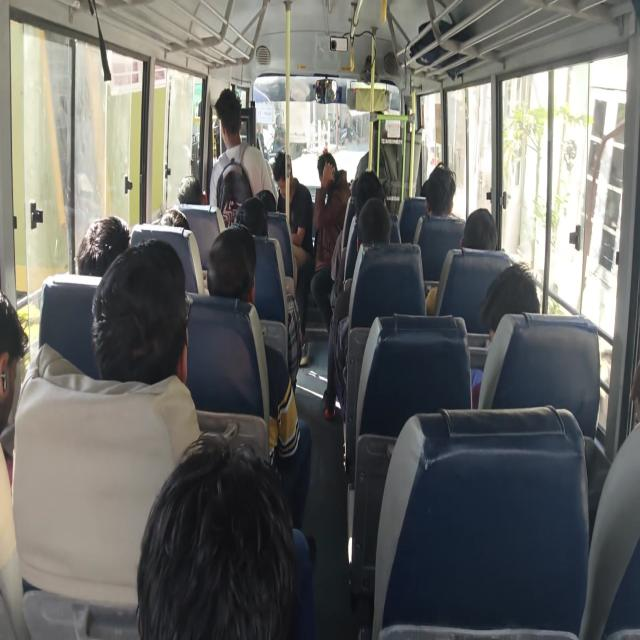person: (103, 465, 286, 640), (117, 241, 191, 371), (0, 297, 47, 443), (74, 196, 140, 280), (428, 170, 482, 250), (482, 258, 537, 334), (213, 232, 255, 298), (216, 84, 252, 144), (469, 197, 499, 264), (362, 212, 408, 255), (158, 198, 194, 242), (352, 173, 386, 216), (178, 171, 215, 210), (272, 151, 300, 201), (312, 151, 350, 187), (240, 197, 266, 240), (422, 170, 451, 203), (250, 180, 278, 212)
